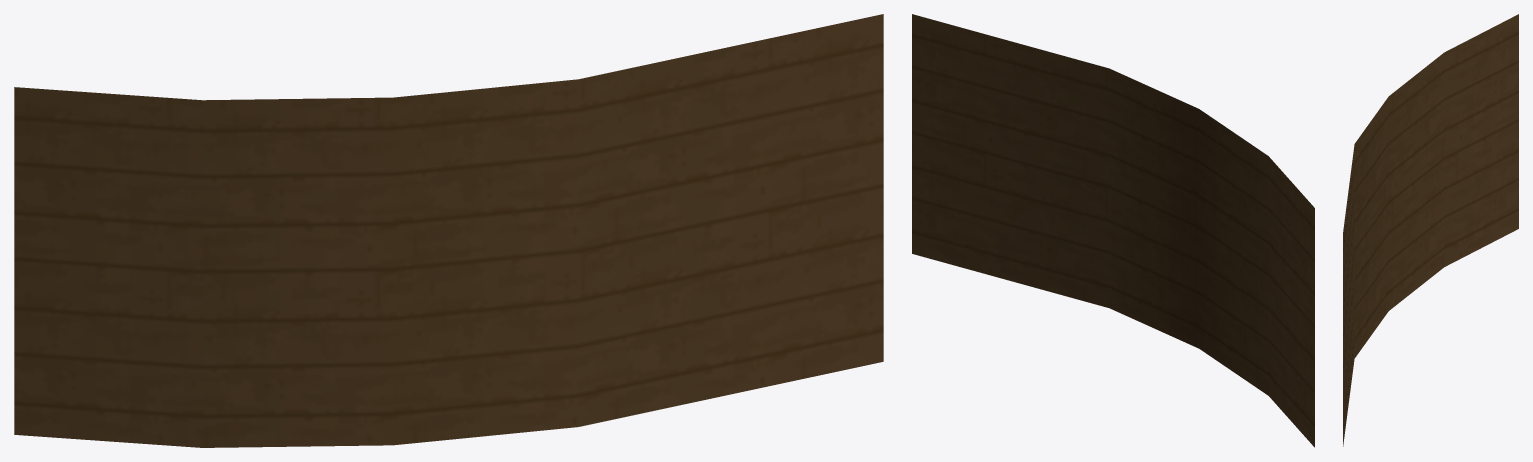
The model's file is L1_Market_P4.fbx.
3 views of the same model, side by side, from view 1: azimuth 30°, elevation 25°; view 2: azimuth 150°, elevation 25°; view 3: azimuth 270°, elevation 25° (orthographic). The views are drawn at different scales.
Parts seen in each view (by area): view 1: L1_Market_P4; view 2: L1_Market_P4; view 3: L1_Market_P4.
Part boxes in pixels (x1,y1,x2,y2): L1_Market_P4: (14,14,883,447); L1_Market_P4: (912,14,1314,447); L1_Market_P4: (1343,14,1518,446).
Bounding box in the file's own units: 607 × 278 × 206.
1 material, 1 textured.
